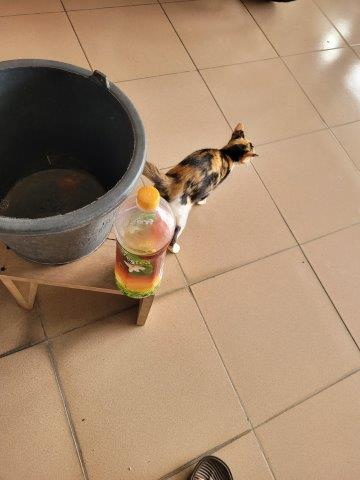botolplastik: (113, 188, 174, 294)
